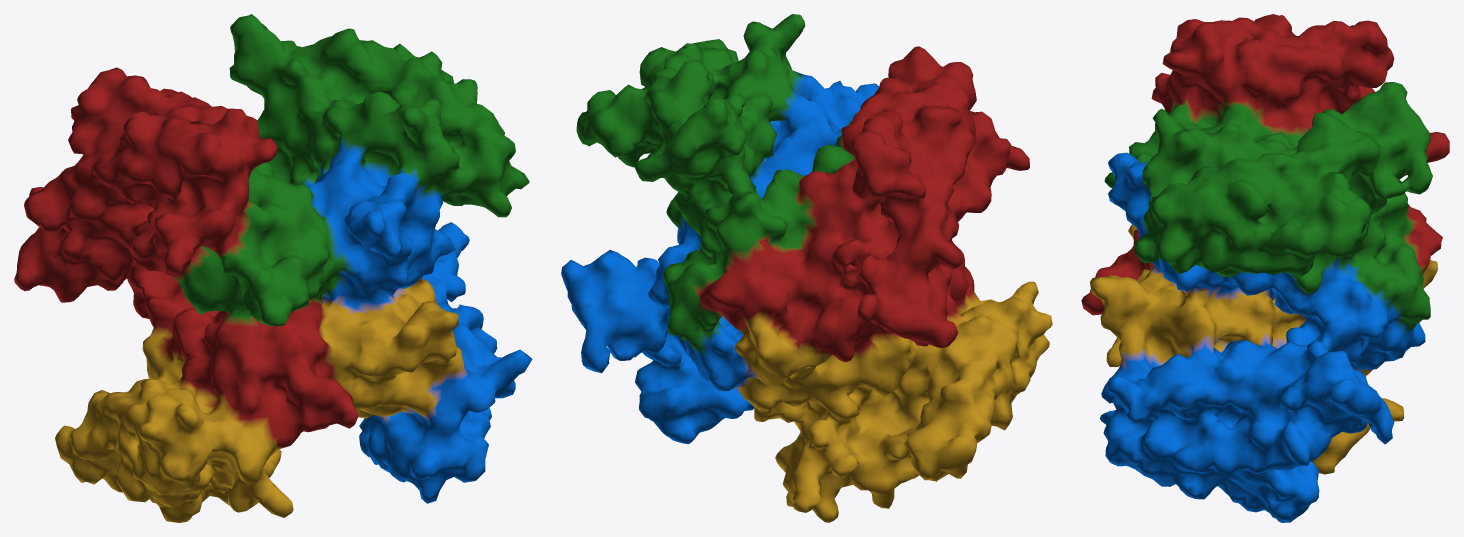
Rendered from ion-channel.glb.
3 views of the same model, side by side, from view 1: azimuth 30°, elevation 25°; view 2: azimuth 150°, elevation 25°; view 3: azimuth 270°, elevation 25° (orthographic). The views are drawn at different scales.
Parts seen in each view (by area): view 1: Surface #1; view 2: Surface #1; view 3: Surface #1.
Boxes of the visible parts, x1,y1,x2,y2 form: Surface #1: [14, 14, 532, 522]; Surface #1: [561, 14, 1052, 522]; Surface #1: [1081, 14, 1449, 522].
Bounding box in the file's own units: 90.48 × 90.52 × 71.79.
